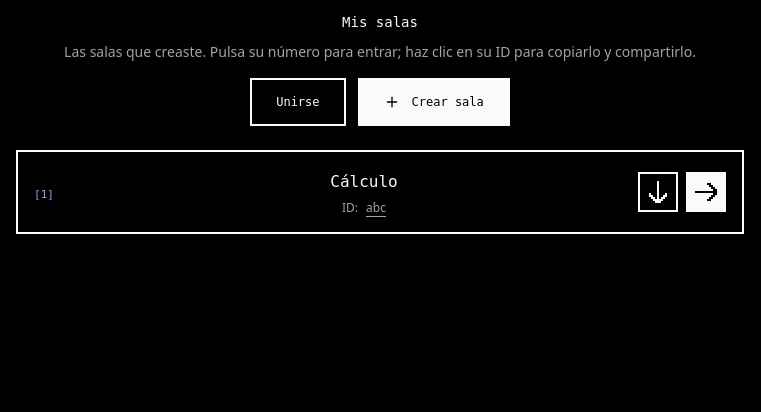
Test: Editar y eliminar desde «Mis salas» (US-07) › Esc desarma el borrado
The width and height of the screenshot is (761, 412).
Click the button named "detalles de la sala": (658, 192) [638, 172, 678, 212]
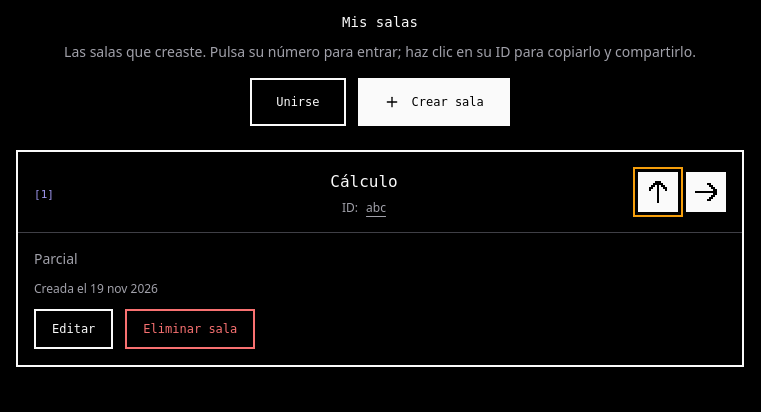
Click the button with aria-label "Eliminar la sala Cálculo": (190, 329) [125, 309, 255, 349]
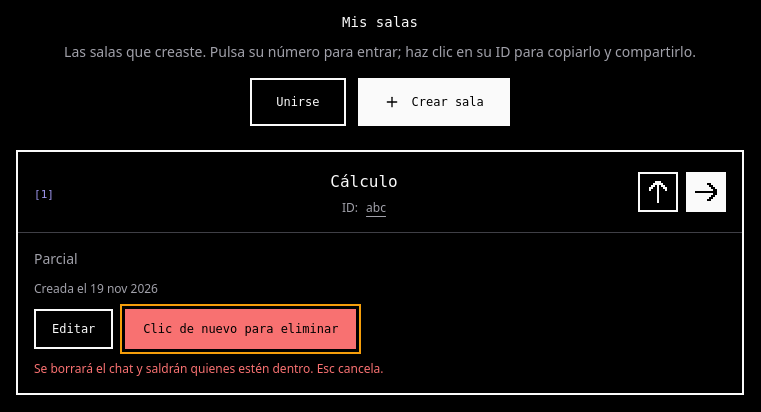
Press Escape
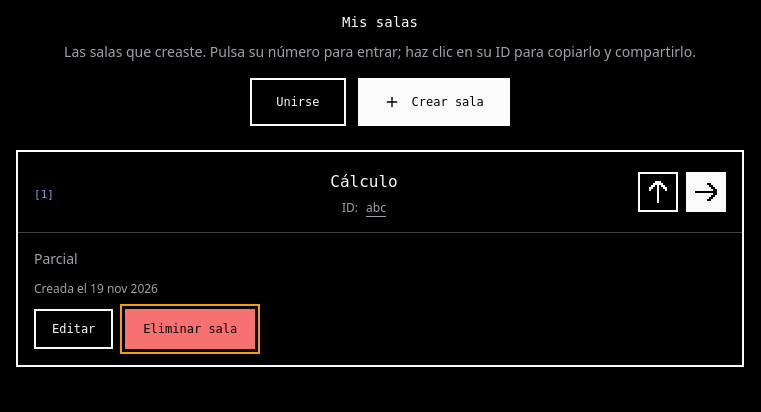
Expected: the button with aria-label "Eliminar la sala Cálculo" reads "Eliminar sala", [125, 309, 255, 349]
